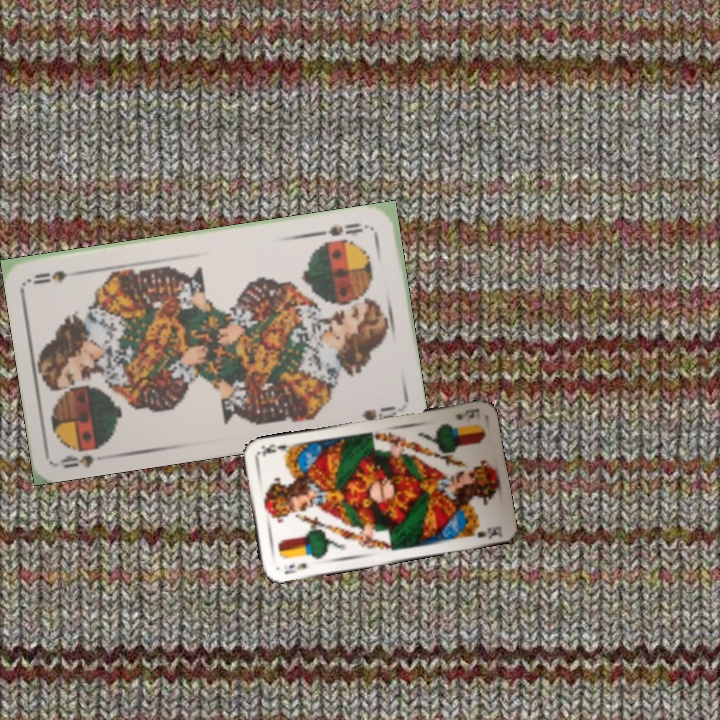EK: (451, 404, 480, 423), (280, 559, 309, 577)
SO: (56, 438, 112, 471), (314, 218, 373, 239)
